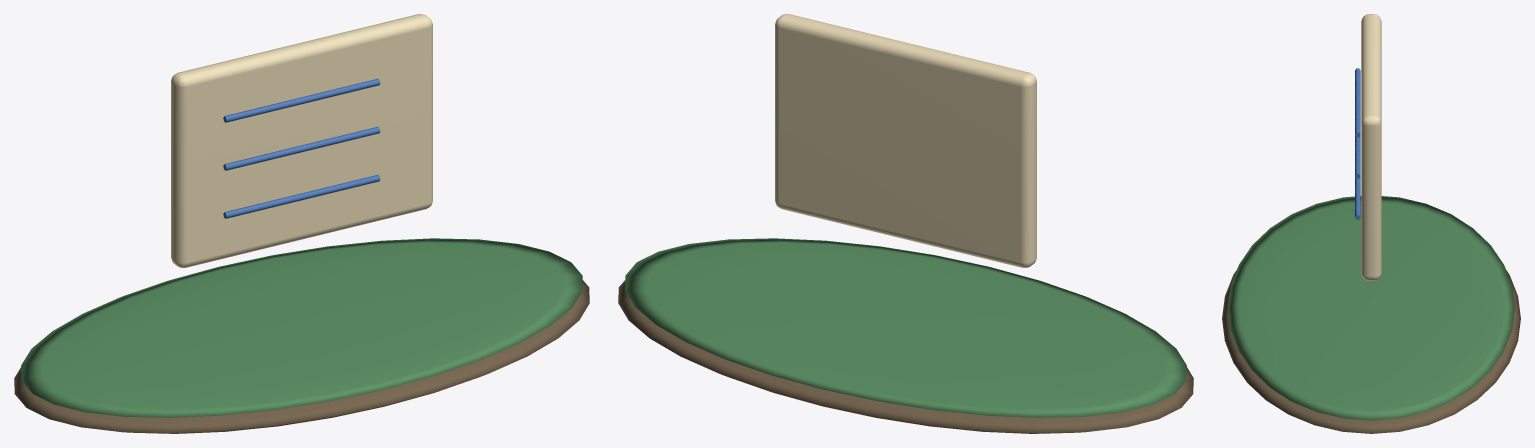
The model's file is page.glb.
3 views of the same model, side by side, from view 1: azimuth 30°, elevation 25°; view 2: azimuth 150°, elevation 25°; view 3: azimuth 270°, elevation 25° (orthographic). The views are drawn at different scales.
Visible parts, largest first — view 1: page_surface_01, page_surface_02, page_surface_00, page_surface_03; view 2: page_surface_01, page_surface_02, page_surface_00; view 3: page_surface_01, page_surface_02, page_surface_00, page_surface_03.
Boxes of the visible parts, x1,y1,x2,y2 form: page_surface_01: (21,238,582,417); page_surface_02: (171,14,432,267); page_surface_00: (14,280,589,433); page_surface_03: (223,78,380,218); page_surface_01: (625,238,1186,417); page_surface_02: (775,14,1036,267); page_surface_00: (618,280,1193,433); page_surface_01: (1228,196,1514,420); page_surface_02: (1361,14,1381,280); page_surface_00: (1222,270,1520,433); page_surface_03: (1355,68,1360,219).
Size of the model in its own units: 4.56 by 2.47 by 2.5.
